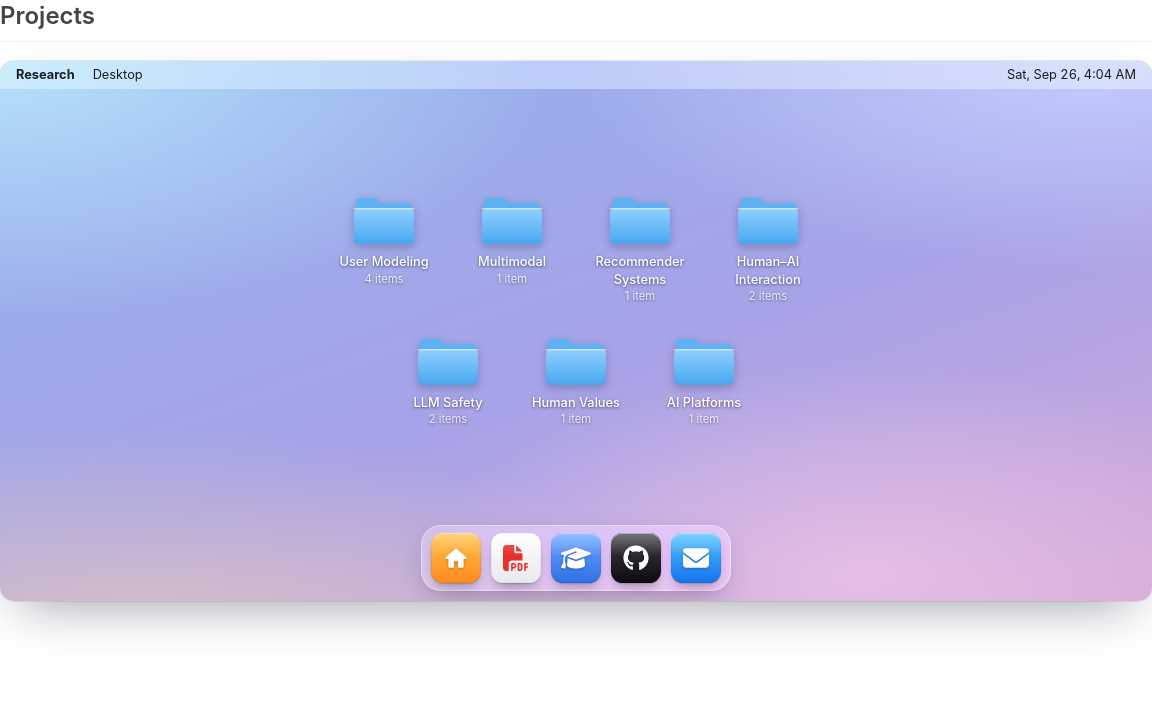
Test: ProjectsDesktop › opens a Finder window listing the folder's projects
What coordinates should you click on to do the following:
click the button with aria-label "User Modeling folder"
I would click on:
 (384, 248)
Its box is [328,186,440,309].
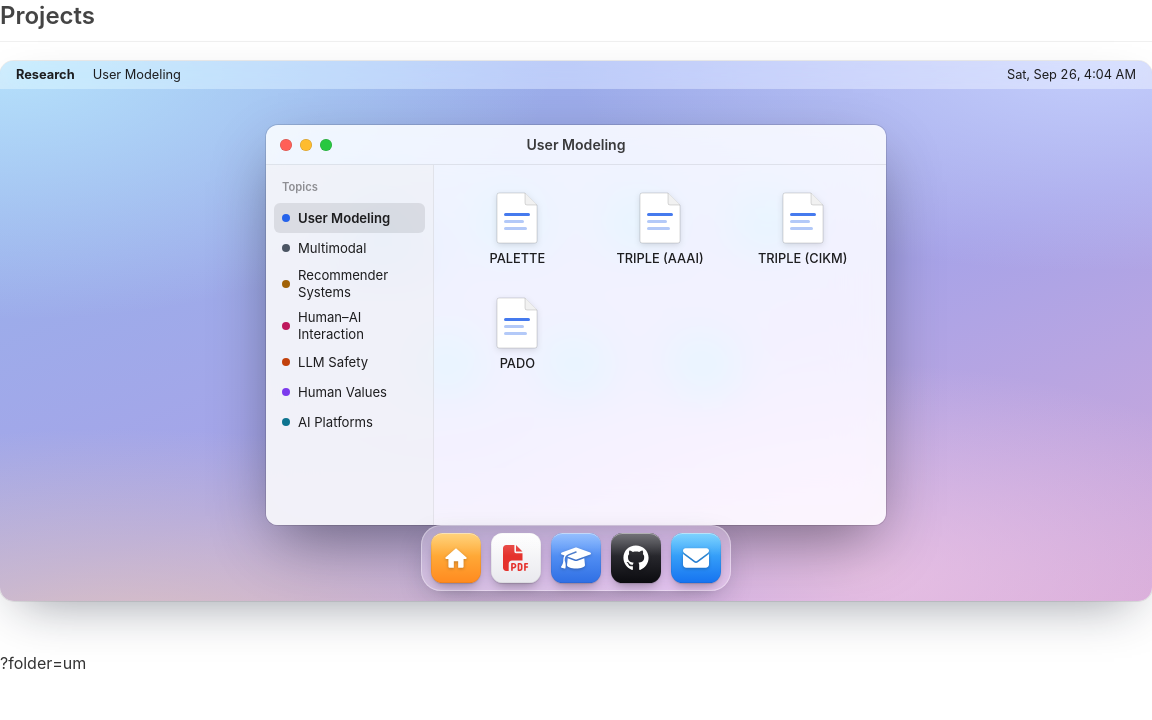
Now the button "PALETTE" is shown, box [450,181,585,278]
Now the button "TRIPLE (AAAI)" is shown, box [593,181,727,278]
